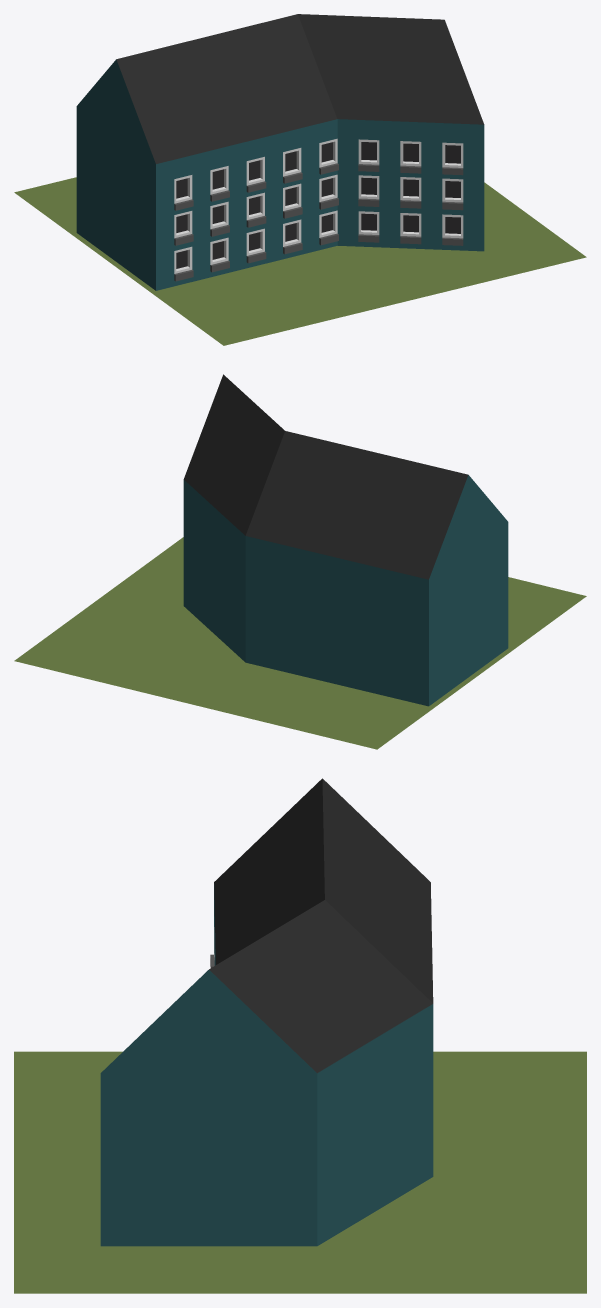
Rendered from 3x2_Residental_Flats_R.fbx.
3 views of the same model, one above another, from view 1: azimuth 30°, elevation 25°; view 2: azimuth 150°, elevation 25°; view 3: azimuth 270°, elevation 25° (orthographic). The views are drawn at different scales.
Visible parts, largest first — view 1: 3x2 Residental Flats R; view 2: 3x2 Residental Flats R; view 3: 3x2 Residental Flats R.
Boxes of the visible parts, <box> form: 3x2 Residental Flats R: <box>14,14,586,345</box>; 3x2 Residental Flats R: <box>14,374,586,749</box>; 3x2 Residental Flats R: <box>14,778,586,1293</box>.
Bounding box in the file's own units: 3 × 1.6 × 3.
